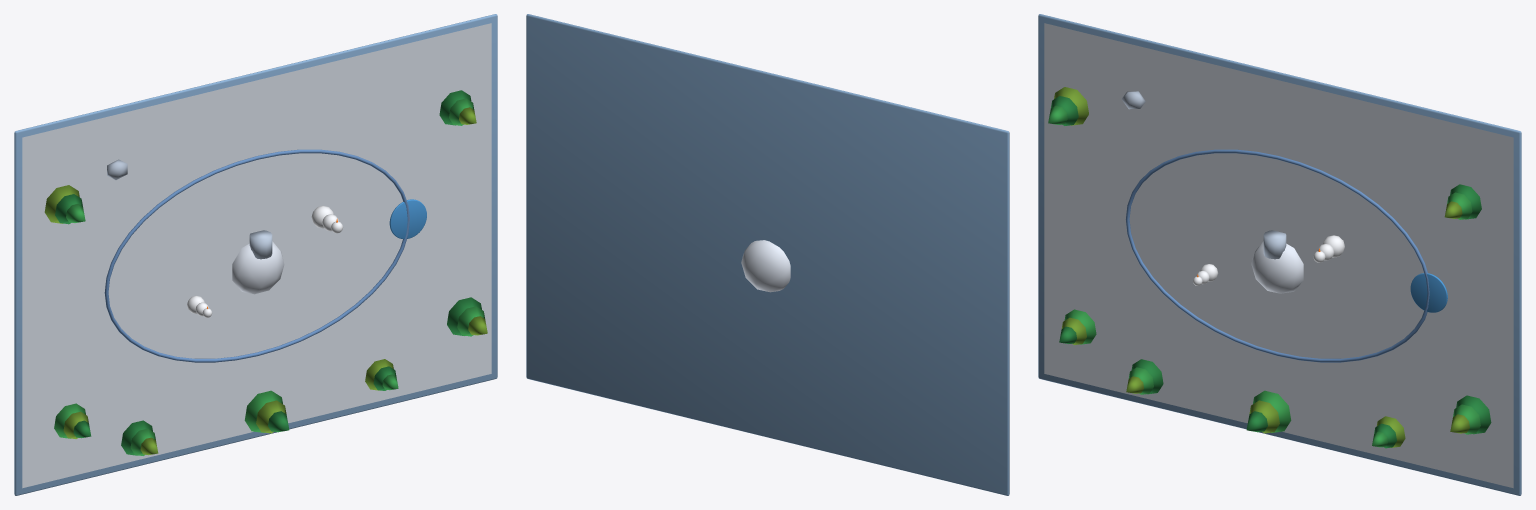
File: carthabot_map_snow.obj
3 renders of one model, left to right at view 1: azimuth 30°, elevation 25°; view 2: azimuth 150°, elevation 25°; view 3: azimuth 330°, elevation 25°, orthographic.
Parts seen in each view (by area): view 1: PlayMat, MatRim, LineLoop, Icosphere, StartPad, Cone.014, Cylinder, Cone.008, Cone.002, Cone.015; view 2: MatRim, Icosphere; view 3: PlayMat, MatRim, LineLoop, Icosphere, StartPad, Cone.014, Cylinder, Cone.002, Cone.008, Cone.015.
Part boxes in pixels (x1=…): PlayMat: x1=22, y1=23, x2=491, y2=488; MatRim: x1=14, y1=14, x2=497, y2=495; LineLoop: x1=104, y1=149, x2=409, y2=362; Icosphere: x1=232, y1=241, x2=284, y2=294; StartPad: x1=389, y1=199, x2=426, y2=239; Cone.014: x1=244, y1=390, x2=282, y2=432; Cylinder: x1=249, y1=230, x2=272, y2=259; Cone.008: x1=44, y1=185, x2=79, y2=223; Cone.002: x1=447, y1=297, x2=481, y2=335; Cone.015: x1=256, y1=400, x2=286, y2=433; MatRim: x1=526, y1=14, x2=1009, y2=495; Icosphere: x1=741, y1=240, x2=790, y2=292; PlayMat: x1=1044, y1=23, x2=1513, y2=488; MatRim: x1=1038, y1=14, x2=1521, y2=495; LineLoop: x1=1125, y1=149, x2=1429, y2=362; Icosphere: x1=1251, y1=241, x2=1303, y2=293; StartPad: x1=1410, y1=273, x2=1447, y2=312; Cone.014: x1=1253, y1=390, x2=1291, y2=432; Cylinder: x1=1263, y1=230, x2=1286, y2=259; Cone.002: x1=1456, y1=395, x2=1491, y2=434; Cone.008: x1=1054, y1=87, x2=1088, y2=125; Cone.015: x1=1249, y1=400, x2=1279, y2=433.
Size of the model in its own units: 28.8 by 20.8 by 4.44.
